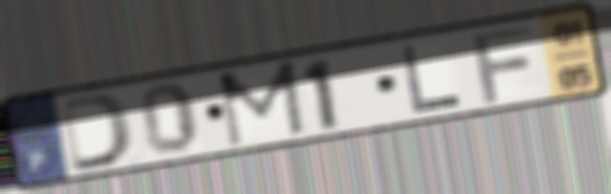0: (137, 81, 203, 158)
1: (300, 54, 341, 133)
D: (57, 90, 138, 175)
F: (467, 22, 537, 106)
L: (397, 43, 467, 116)
M: (214, 58, 310, 151)
